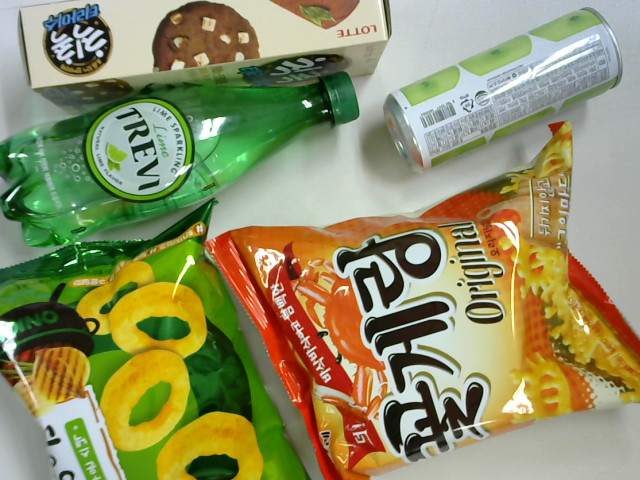Chicchok_Tiramisu: (13, 2, 389, 106)
Crabrang: (209, 124, 640, 464)
Demisoda_Apple_Can_250ml: (363, 6, 623, 168)
Grilled_Onions: (5, 204, 314, 480)
Treviraim_500ml: (5, 76, 363, 244)
